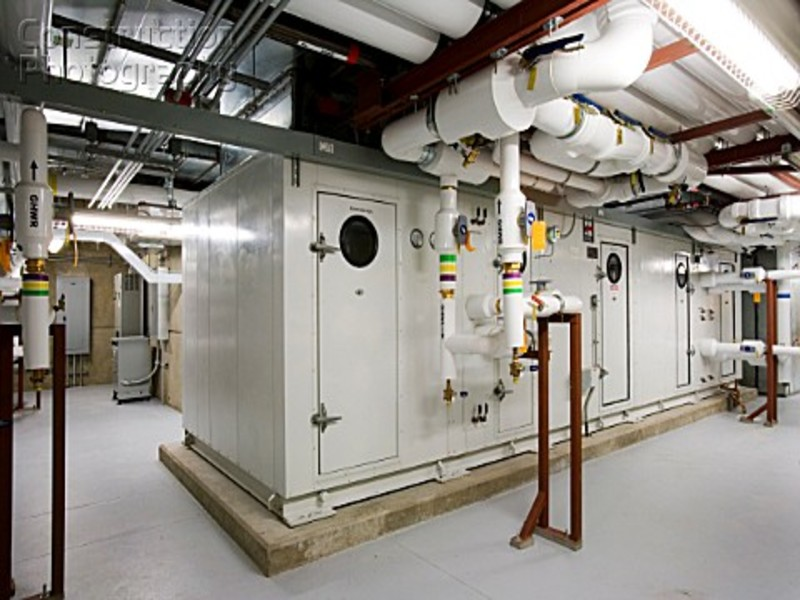valve: (524, 290, 548, 315)
